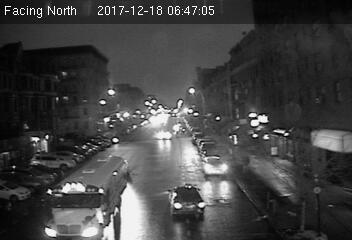car: (166, 184, 207, 215), (203, 156, 228, 178), (155, 130, 172, 139)
truck: (46, 154, 131, 240)
